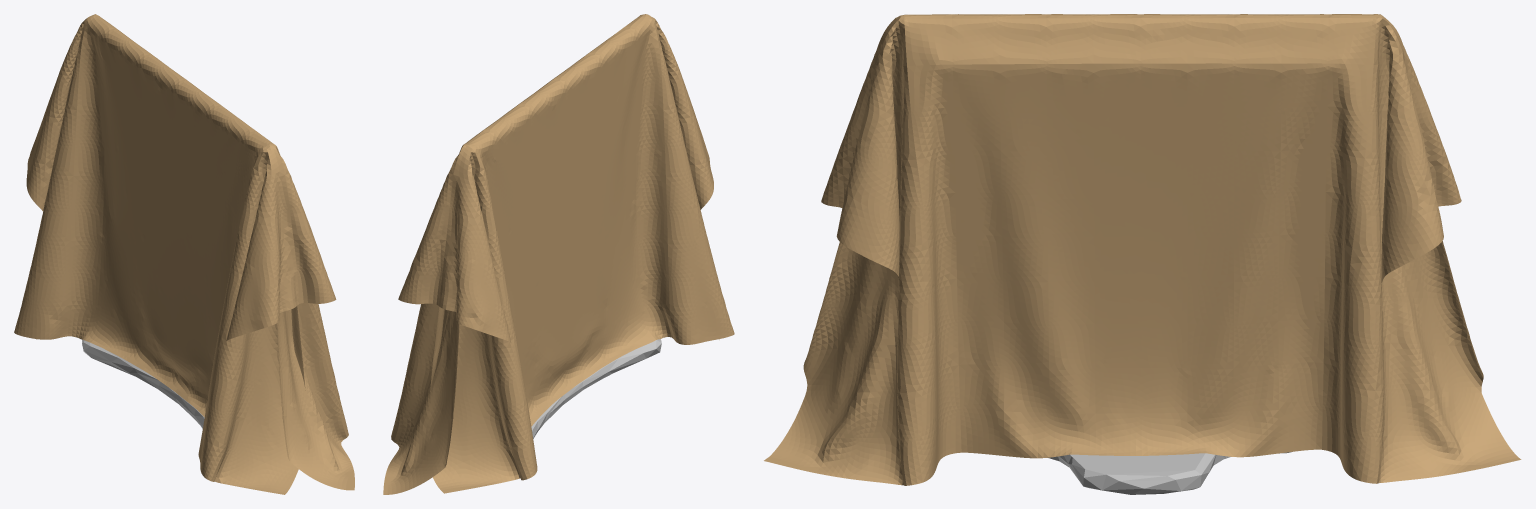
File: level_3.glb
3 renders of one model, left to right at view 1: azimuth 30°, elevation 25°; view 2: azimuth 150°, elevation 25°; view 3: azimuth 270°, elevation 25°, orthographic. The views are drawn at different scales.
Visible parts, largest first — view 1: world, object.obj; view 2: world, object.obj; view 3: world, object.obj.
Part boxes in pixels (x1=…): world: x1=14, y1=14, x2=354, y2=494; object.obj: x1=82, y1=339, x2=204, y2=428; world: x1=383, y1=14, x2=734, y2=494; object.obj: x1=531, y1=339, x2=661, y2=438; world: x1=764, y1=14, x2=1521, y2=485; object.obj: x1=1048, y1=452, x2=1291, y2=494.
Bounding box in the file's own units: 0.1597 × 0.2906 × 0.4704.
